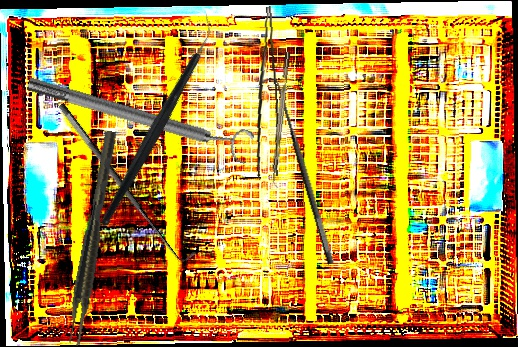Chopper: (42, 12, 270, 227), (268, 51, 298, 189)
Fixation Ring: (23, 64, 256, 167)
Hook Surgical: (55, 93, 197, 269), (258, 71, 338, 270)
Tissue Forceps: (63, 130, 124, 347), (246, 6, 283, 178)
